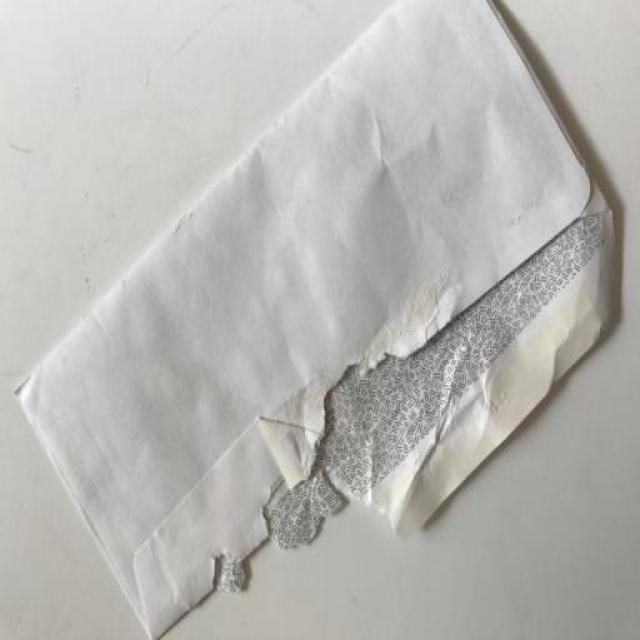paper: (84, 149, 620, 593)
